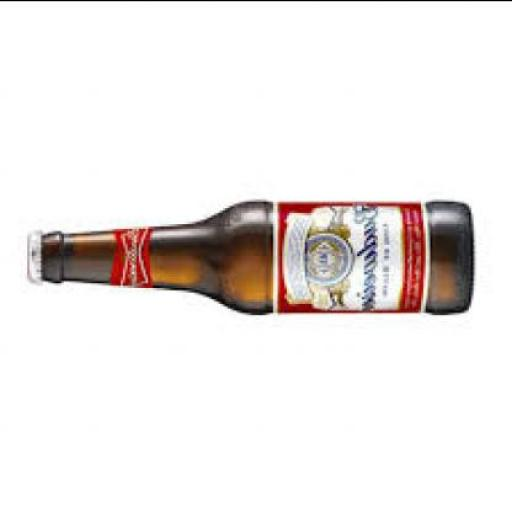glass: (39, 198, 473, 314)
metal: (23, 226, 39, 277)
